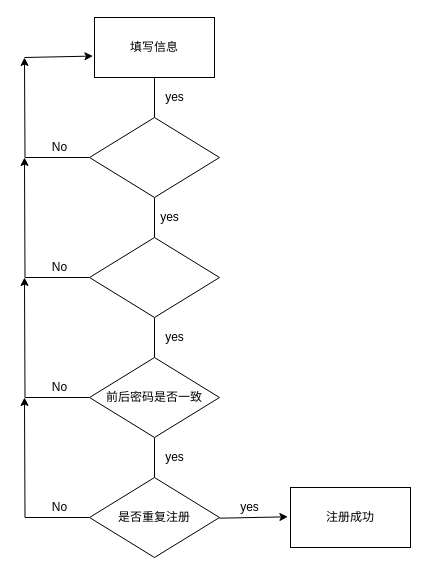
The diagram is 428 pixels wide and 575 high, and some of its shapes have lost their labels. The shapes that lost their labels are listed below. From the top down, each one's centre as x and y in pixels, then its label:
At point (154, 157): "信息是否填写完整".
At point (154, 277): "信息是否填写规范".
